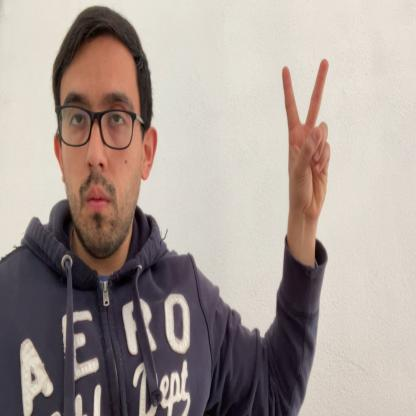V: (282, 58, 330, 224)
